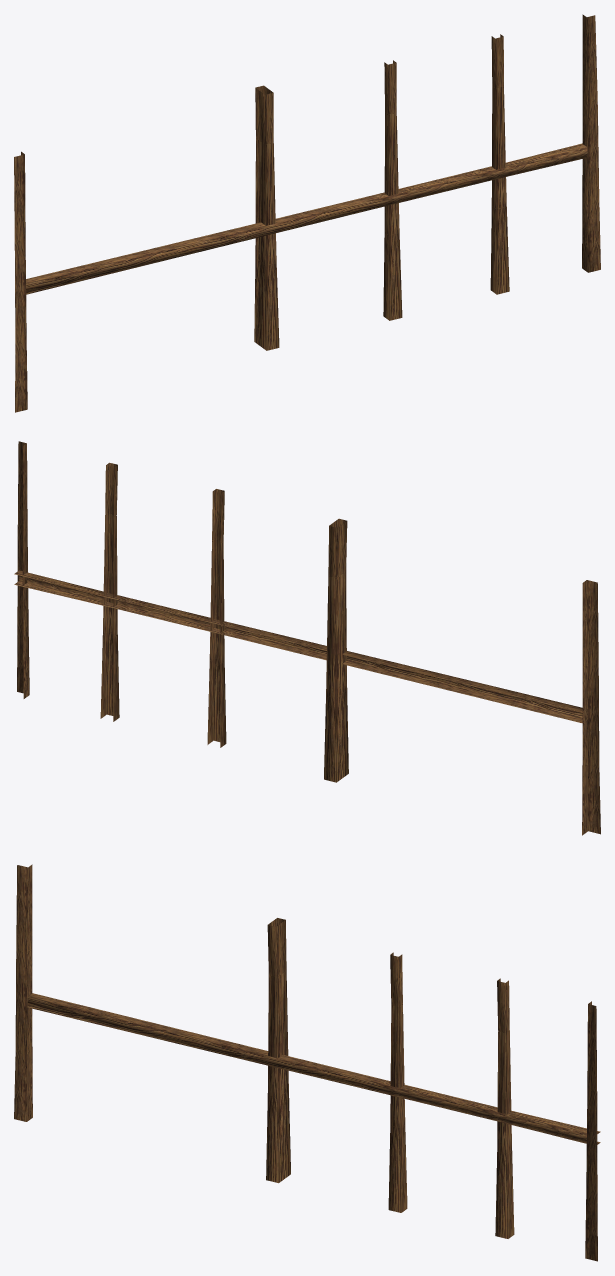
The model's file is LAKETOWN_WAREHOUSE1_PS_WH1_SIDEBEAMS94948.fbx.
The picture shows the model from 3 angles, top to bottom: view 1: azimuth 30°, elevation 25°; view 2: azimuth 150°, elevation 25°; view 3: azimuth 330°, elevation 25°; orthographic projection.
Visible parts, largest first — view 1: LAKETOWN_WAREHOUSE1_PS_WH1_SIDEBEAMS94948; view 2: LAKETOWN_WAREHOUSE1_PS_WH1_SIDEBEAMS94948; view 3: LAKETOWN_WAREHOUSE1_PS_WH1_SIDEBEAMS94948.
Part boxes in pixels (x1=…): LAKETOWN_WAREHOUSE1_PS_WH1_SIDEBEAMS94948: x1=14, y1=14, x2=600, y2=412; LAKETOWN_WAREHOUSE1_PS_WH1_SIDEBEAMS94948: x1=14, y1=441, x2=600, y2=835; LAKETOWN_WAREHOUSE1_PS_WH1_SIDEBEAMS94948: x1=14, y1=864, x2=600, y2=1261.
Size of the model in its own units: 196867 by 81858 by 7556.
Materials: 1 (1 with a texture image).
